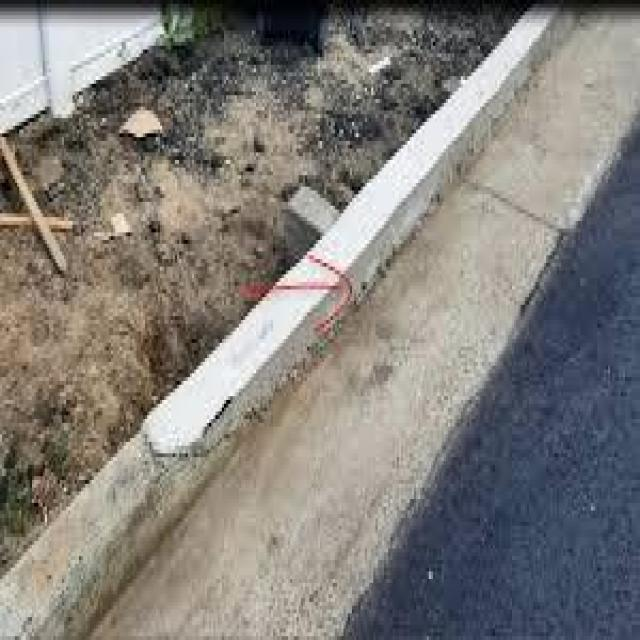curb: (140, 255, 356, 525), (314, 82, 493, 314), (5, 433, 177, 640)
